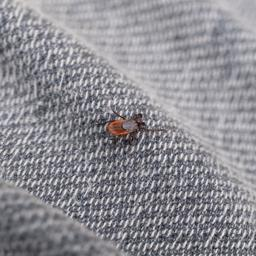Ixodes scapularis: (97, 108, 164, 144)
